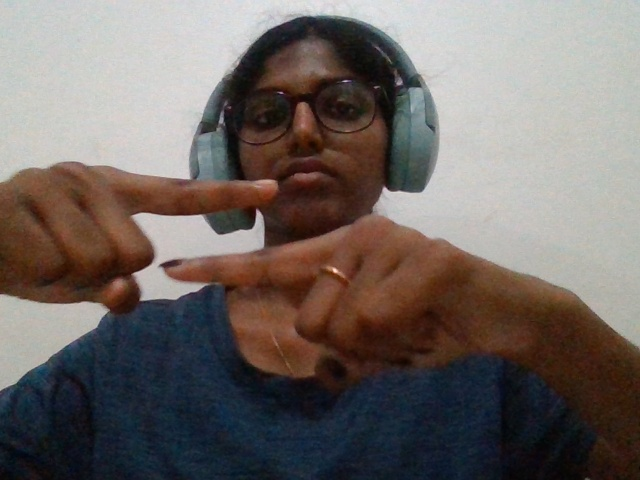Sign: (5, 126, 626, 430)
